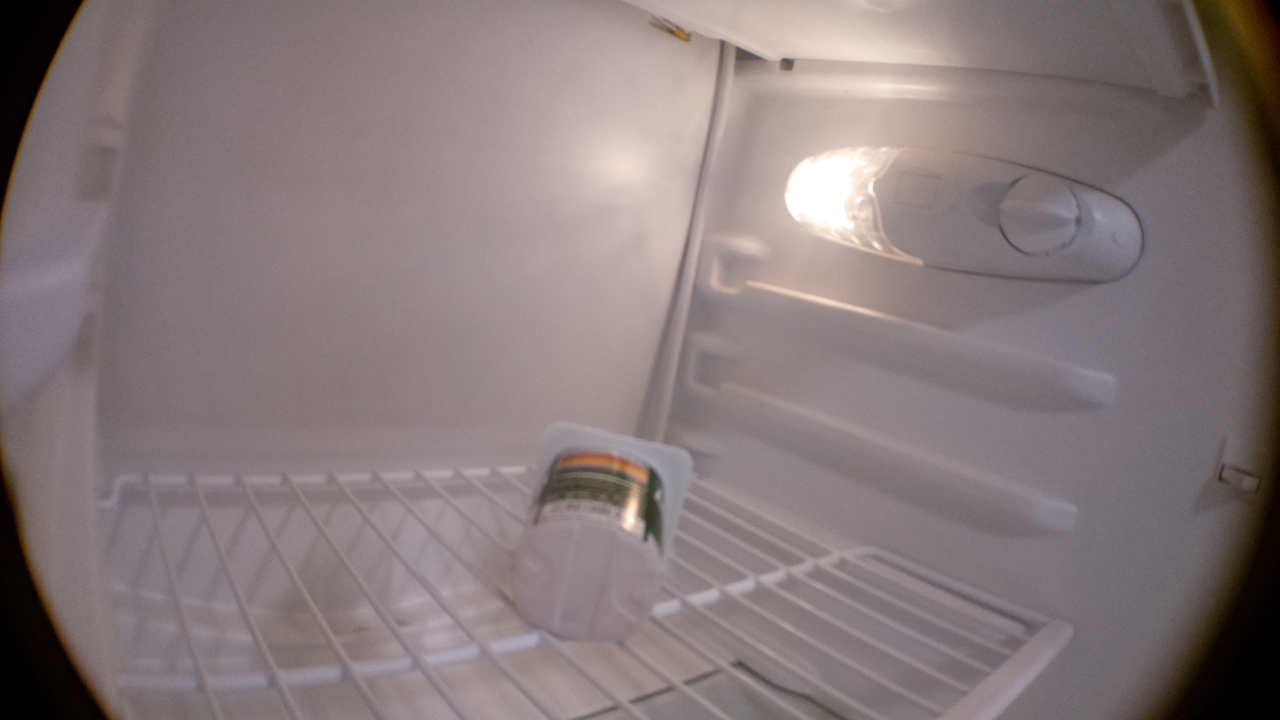yoghurt: (509, 420, 697, 641)
